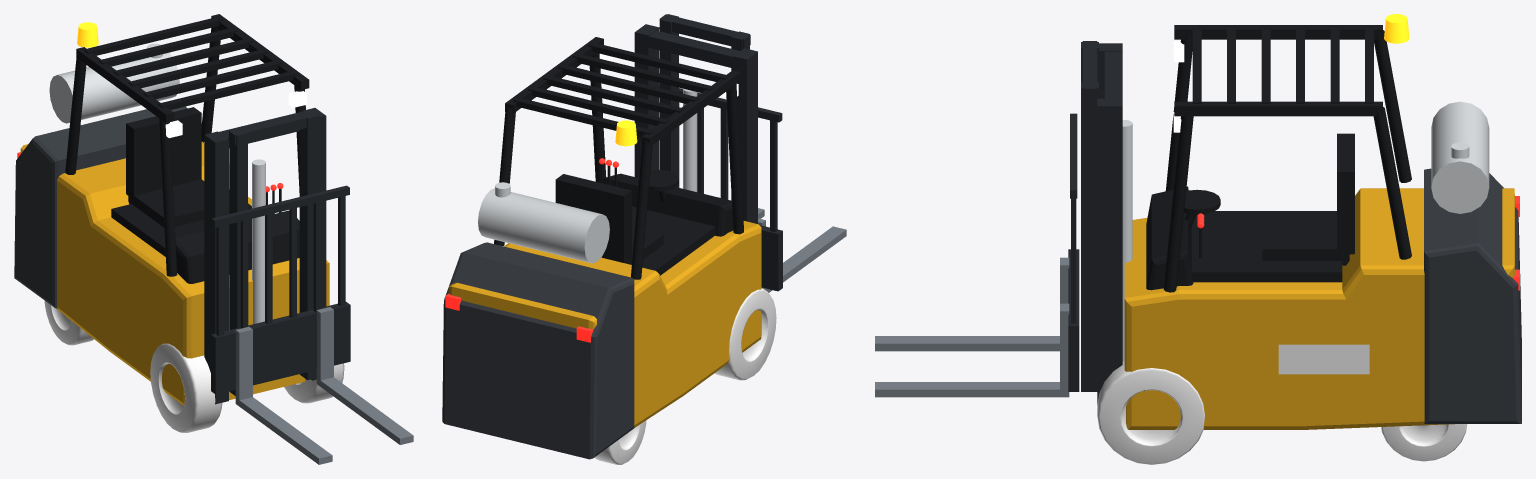
The model's file is fleet--forkliftCounterbalance.glb.
3 renders of one model, left to right at view 1: azimuth 30°, elevation 25°; view 2: azimuth 150°, elevation 25°; view 3: azimuth 270°, elevation 25°, orthographic. The views are drawn at different scales.
Visible parts, largest first — view 1: forkliftCounterbalance:shell, overheadGuard, carriage, counterweight, mast, innerMast, seat, forks, wheelsFront, lpgTank, wheelsRear, headlights (+1 smaller); view 2: counterweight, forkliftCounterbalance:shell, overheadGuard, mast, lpgTank, carriage, seat, innerMast, wheelsFront, forks, wheelsRear, beacon (+1 smaller); view 3: forkliftCounterbalance:shell, counterweight, overheadGuard, mast, forks, wheelsFront, seat, innerMast, lpgTank, carriage, wheelsRear, beacon.
Boxes of the visible parts, x1,y1,x2,y2 form: forkliftCounterbalance:shell: [20, 142, 329, 405]; overheadGuard: [65, 14, 309, 276]; carriage: [211, 185, 350, 394]; counterweight: [14, 106, 203, 308]; mast: [204, 108, 326, 404]; innerMast: [229, 110, 318, 395]; seat: [126, 107, 204, 227]; forks: [235, 307, 413, 464]; wheelsFront: [150, 343, 344, 433]; lpgTank: [49, 43, 179, 123]; wheelsRear: [44, 301, 93, 345]; headlights: [165, 91, 306, 138]; counterweight: [442, 242, 634, 459]; forkliftCounterbalance:shell: [448, 170, 761, 427]; overheadGuard: [494, 37, 743, 279]; mast: [634, 24, 757, 223]; lpgTank: [478, 182, 609, 263]; carriage: [659, 83, 782, 291]; seat: [555, 174, 664, 264]; innerMast: [659, 14, 750, 200]; wheelsFront: [715, 288, 776, 380]; forks: [758, 208, 846, 292]; wheelsRear: [594, 420, 646, 464]; beacon: [615, 120, 637, 146]; forkliftCounterbalance:shell: [1124, 186, 1514, 429]; counterweight: [1424, 168, 1521, 423]; overheadGuard: [1163, 25, 1411, 292]; mast: [1097, 43, 1132, 404]; forks: [875, 257, 1069, 397]; wheelsFront: [1097, 360, 1204, 464]; seat: [1262, 133, 1354, 265]; innerMast: [1081, 41, 1098, 391]; lpgTank: [1431, 101, 1489, 213]; carriage: [1068, 113, 1079, 391]; wheelsRear: [1381, 424, 1467, 461]; beacon: [1384, 14, 1409, 43].
Size of the model in its own units: 1.12 by 2.28 by 3.57.
